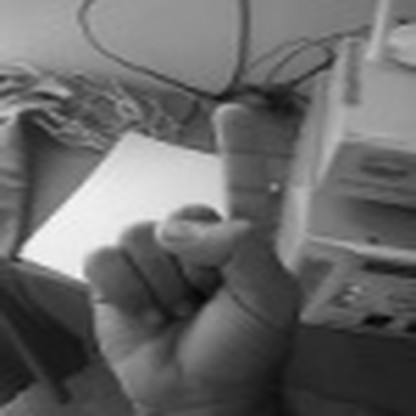d: (79, 98, 297, 412)
